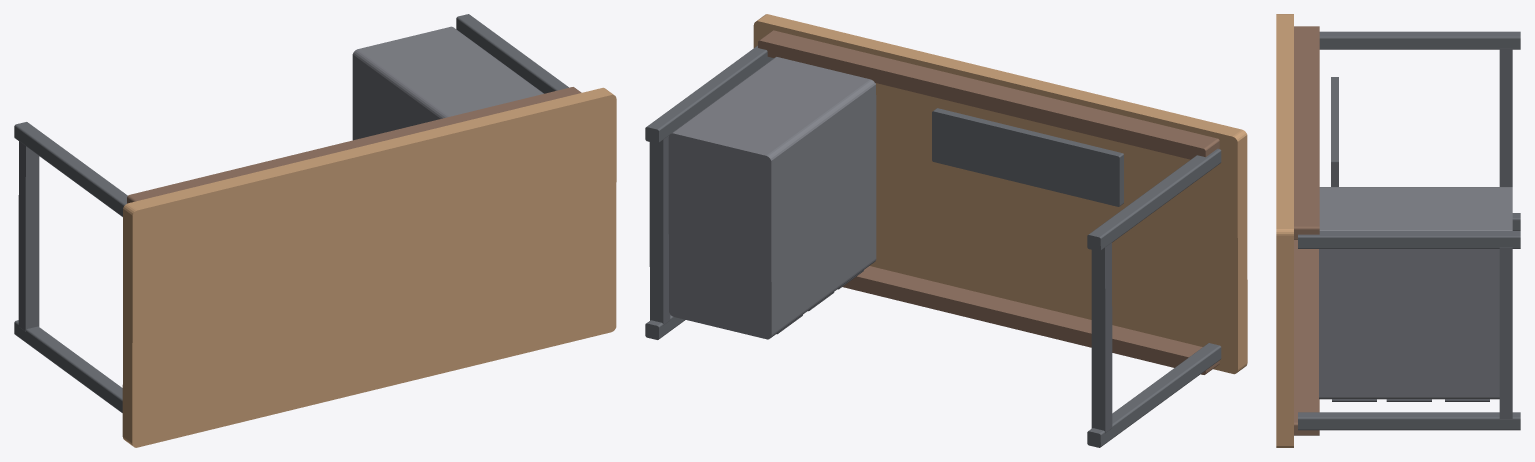
File: desk_main.glb
3 views of the same model, side by side, from view 1: azimuth 30°, elevation 25°; view 2: azimuth 150°, elevation 25°; view 3: azimuth 270°, elevation 25° (orthographic). The views are drawn at different scales.
Parts seen in each view (by area): view 1: desk_top, drawer_cabinet, desk_apron_back, desk_stretcher_-0.73, desk_leg_-0.73_0.31, desk_leg_-0.73_-0.31, desk_leg_0.73_0.31; view 2: desk_top, drawer_cabinet, desk_apron_back, cable_tray, desk_apron_front, desk_stretcher_-0.73, desk_stretcher_0.73, desk_leg_-0.73_0.31, desk_leg_-0.73_-0.31, desk_leg_0.73_0.31; view 3: drawer_cabinet, desk_top, desk_apron_back, desk_apron_front, desk_leg_0.73_-0.31, desk_leg_0.73_0.31, desk_leg_-0.73_0.31, desk_stretcher_0.73, desk_stretcher_-0.73, cable_tray.
Part boxes in pixels (box(x1,y1,x2,y2)): desk_top: box(122, 87, 616, 447); drawer_cabinet: box(352, 26, 543, 140); desk_apron_back: box(127, 87, 581, 203); desk_stretcher_-0.73: box(18, 141, 39, 331); desk_leg_-0.73_0.31: box(14, 122, 127, 216); desk_leg_-0.73_-0.31: box(14, 320, 122, 412); desk_leg_0.73_0.31: box(456, 14, 568, 93); desk_top: box(753, 14, 1247, 374); drawer_cabinet: box(668, 57, 876, 339); desk_apron_back: box(758, 30, 1219, 159); cable_tray: box(932, 108, 1123, 206); desk_apron_front: box(842, 266, 1219, 374); desk_stretcher_-0.73: box(1091, 243, 1112, 433); desk_stretcher_0.73: box(649, 136, 670, 325); desk_leg_-0.73_0.31: box(1087, 148, 1221, 251); desk_leg_-0.73_-0.31: box(1087, 343, 1221, 447); desk_leg_0.73_0.31: box(645, 45, 773, 143); drawer_cabinet: box(1319, 187, 1512, 399); desk_top: box(1276, 14, 1293, 447); desk_apron_back: box(1294, 26, 1319, 239); desk_apron_front: box(1294, 239, 1319, 435); desk_leg_0.73_-0.31: box(1298, 412, 1520, 430); desk_leg_0.73_0.31: box(1298, 231, 1520, 248); desk_leg_-0.73_0.31: box(1319, 31, 1520, 49); desk_stretcher_0.73: box(1499, 247, 1512, 418); desk_stretcher_-0.73: box(1499, 48, 1512, 186); cable_tray: box(1331, 77, 1338, 186).
Size of the model in its own units: 1.6 by 0.75 by 0.7575.
